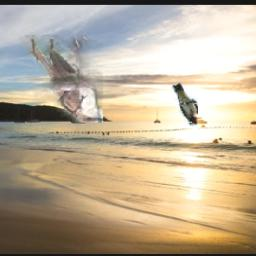Cuckoo: (20, 35, 104, 123)
Swallow: (172, 83, 199, 126)
